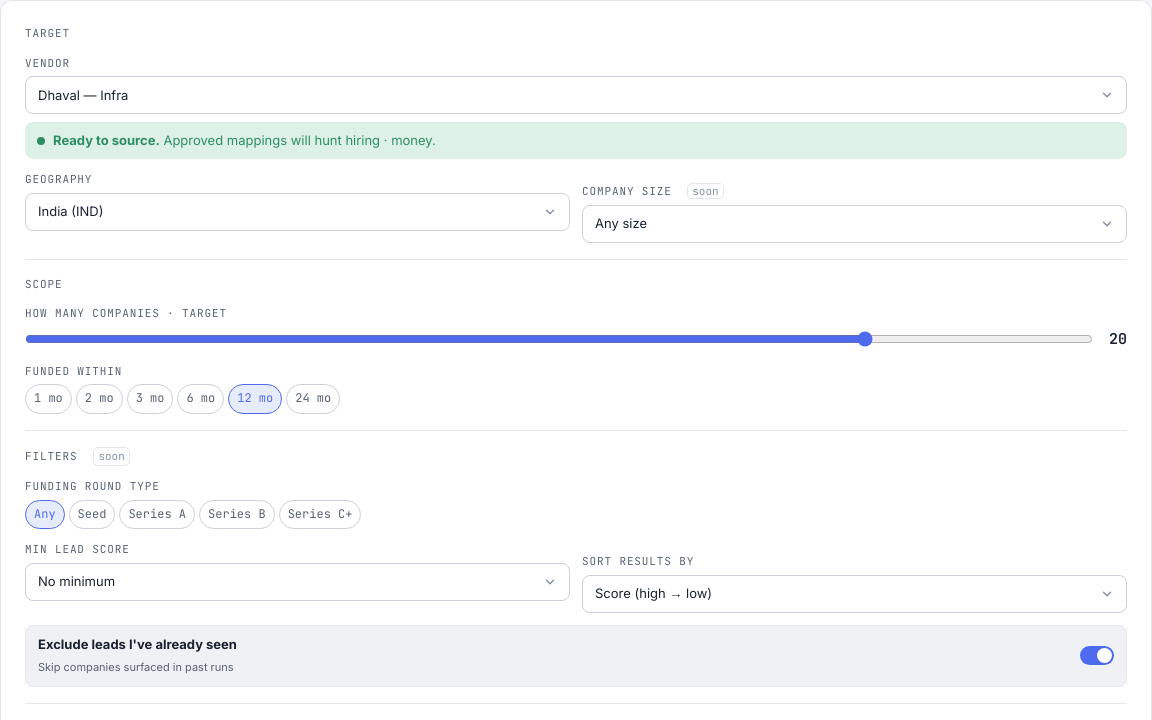
NewCampaignForm › disables submit + shows the needs-a-mapping banner when the picked vendor is not ready
This screenshot has width=1152, height=720.
Select "Nimbus — (no type set)" in the dropdown labelled "Vendor". click: (576, 95)
box: [25, 76, 1127, 114]
(page scrolled)
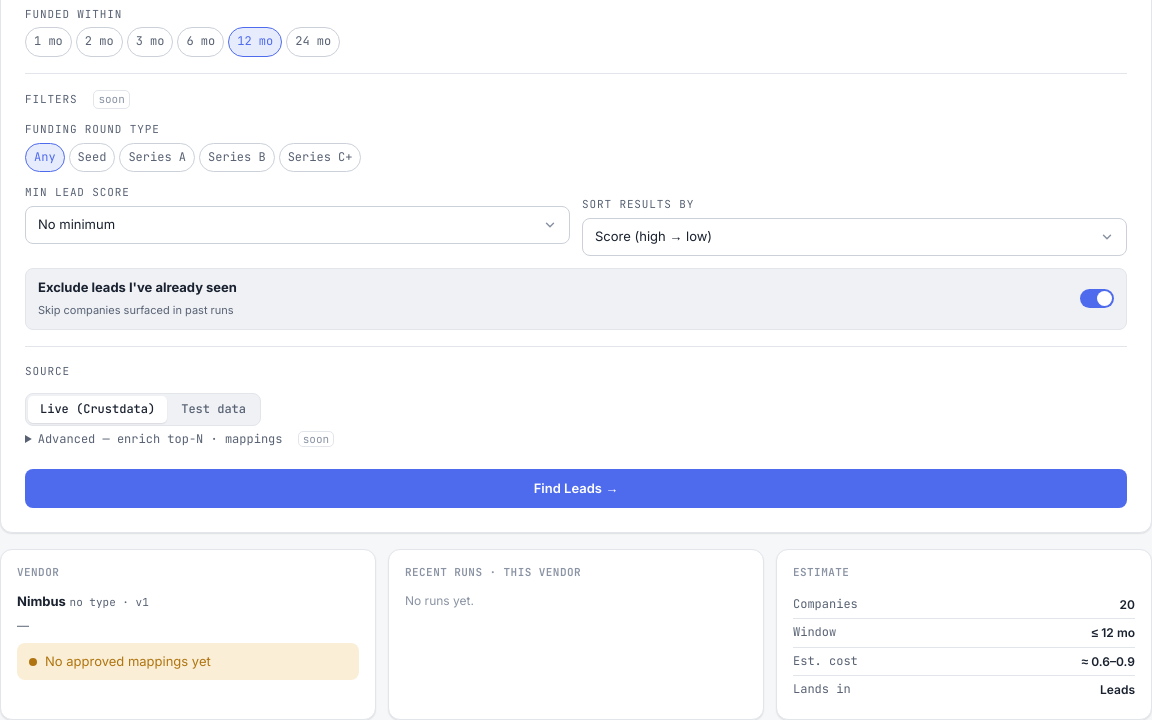
Expected: the button "Find Leads →" is disabled, [25, 469, 1127, 508]
